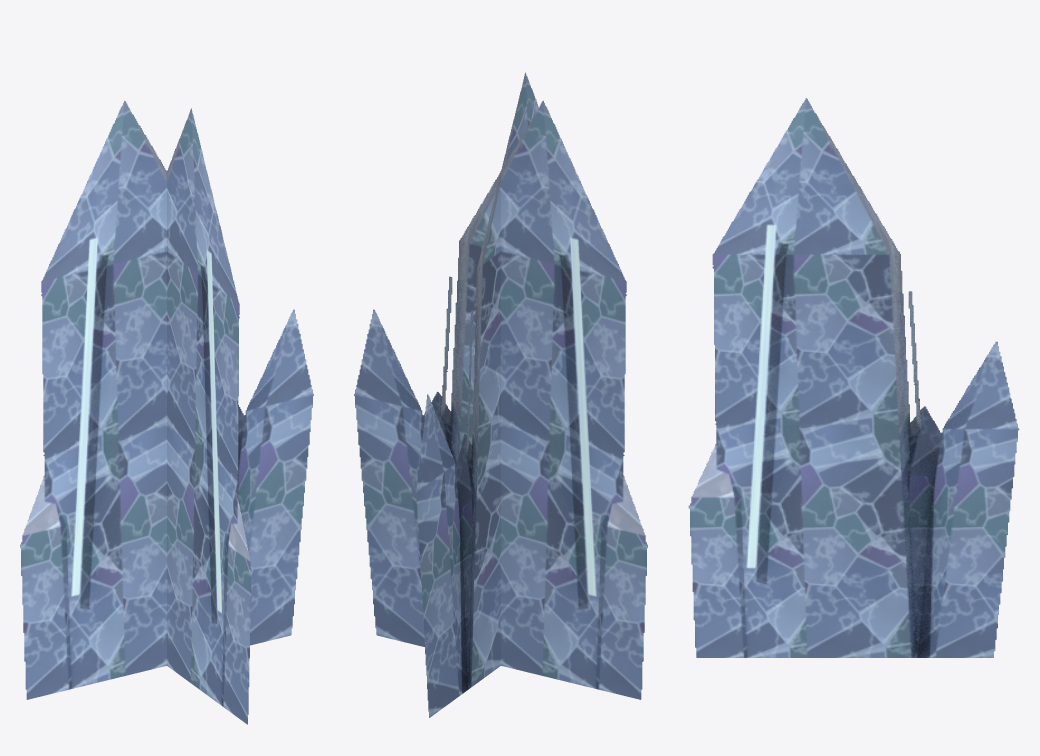
The model's file is Oracle_Crystal_Slab_3_BB.gltf.
3 views of the same model, side by side, from view 1: azimuth 30°, elevation 25°; view 2: azimuth 150°, elevation 25°; view 3: azimuth 270°, elevation 25° (orthographic). The views are drawn at different scales.
Visible parts, largest first — view 1: Oracle_Crystal_Slab_3_BB; view 2: Oracle_Crystal_Slab_3_BB; view 3: Oracle_Crystal_Slab_3_BB.
Boxes of the visible parts, bbox=[...] form: Oracle_Crystal_Slab_3_BB: bbox=[20, 100, 313, 724]; Oracle_Crystal_Slab_3_BB: bbox=[354, 72, 647, 717]; Oracle_Crystal_Slab_3_BB: bbox=[688, 98, 1019, 657].
Size of the model in its own units: 9.81 by 18.39 by 9.81.
1 material, 1 textured.
